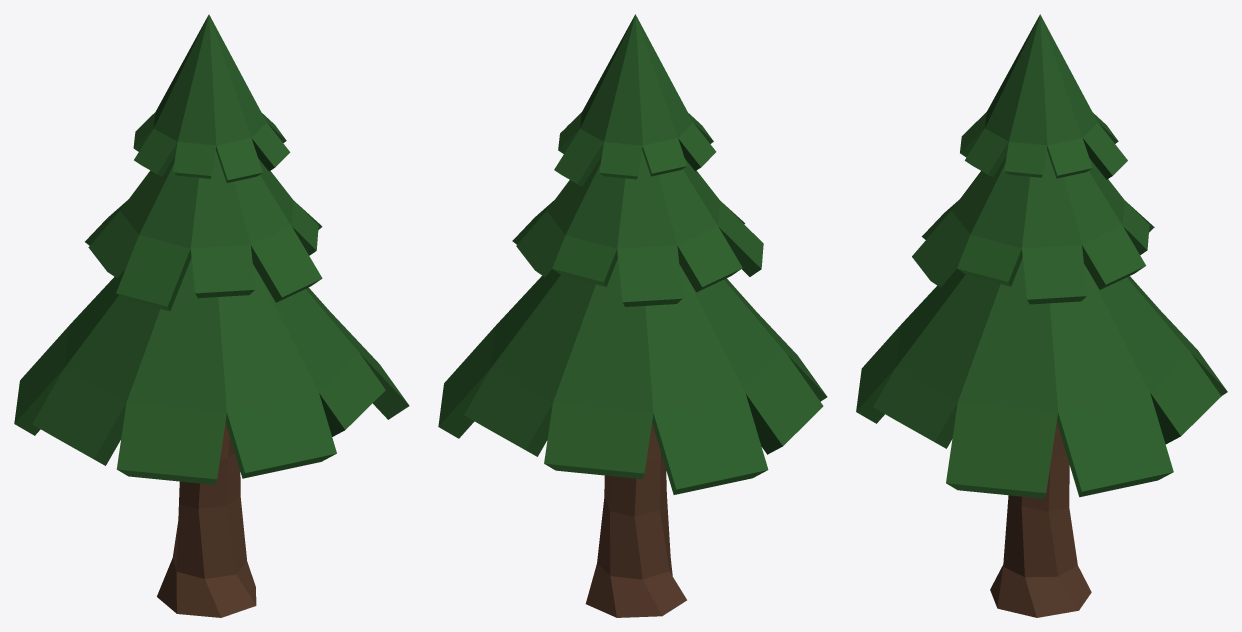
The model's file is tree_2.glb.
3 renders of one model, left to right at view 1: azimuth 30°, elevation 25°; view 2: azimuth 150°, elevation 25°; view 3: azimuth 270°, elevation 25°, orthographic.
Parts seen in each view (by area): view 1: PineTree1; view 2: PineTree1; view 3: PineTree1.
Part boxes in pixels (bbox=[...]): PineTree1: bbox=[14, 14, 409, 617]; PineTree1: bbox=[438, 14, 827, 617]; PineTree1: bbox=[856, 14, 1227, 617].
Bounding box in the file's own units: 6.09 × 10.04 × 5.81.
